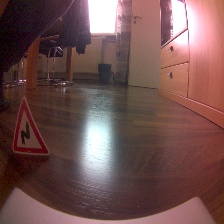vorsicht: (7, 95, 53, 159)
